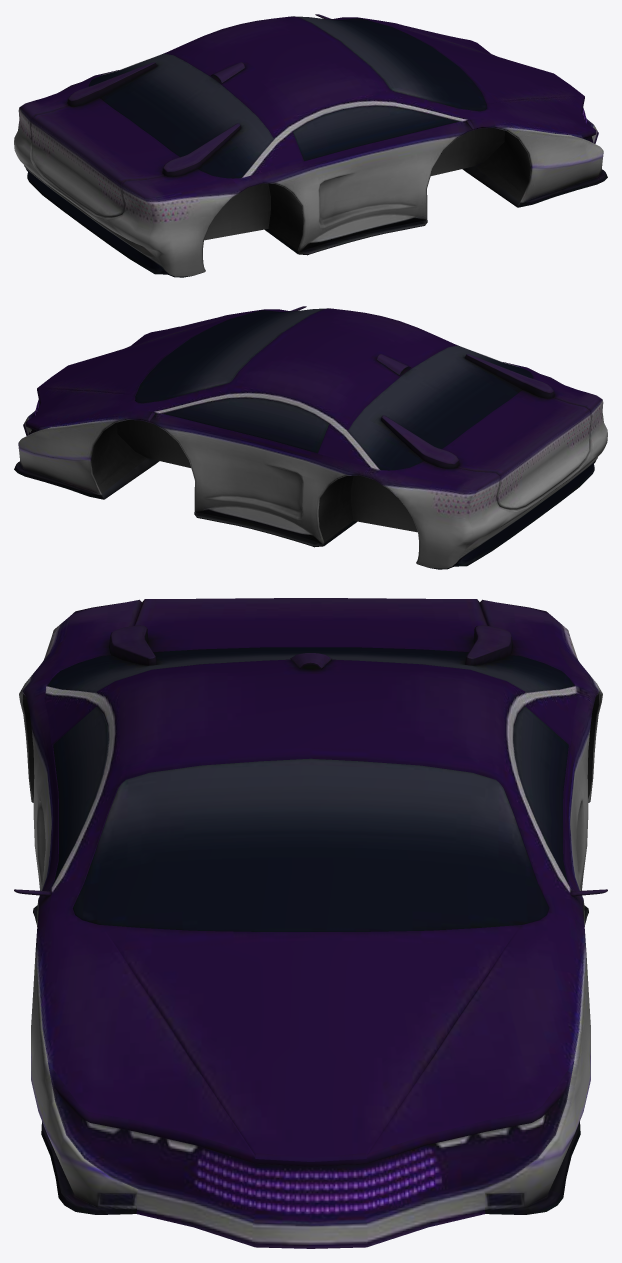
File: f1_car_mercedes_07.dae
3 renders of one model, top to bottom at view 1: azimuth 30°, elevation 25°; view 2: azimuth 150°, elevation 25°; view 3: azimuth 270°, elevation 25°, orthographic. The views are drawn at different scales.
Parts seen in each view (by area): view 1: car_body; view 2: car_body; view 3: car_body.
Boxes of the visible parts, box(x1,y1,x2,y2) form: car_body: box(14, 14, 607, 277); car_body: box(14, 306, 607, 569); car_body: box(14, 598, 607, 1248).
Size of the model in its own units: 0.3658 by 0.1927 by 0.0974.
1 material, 1 textured.
